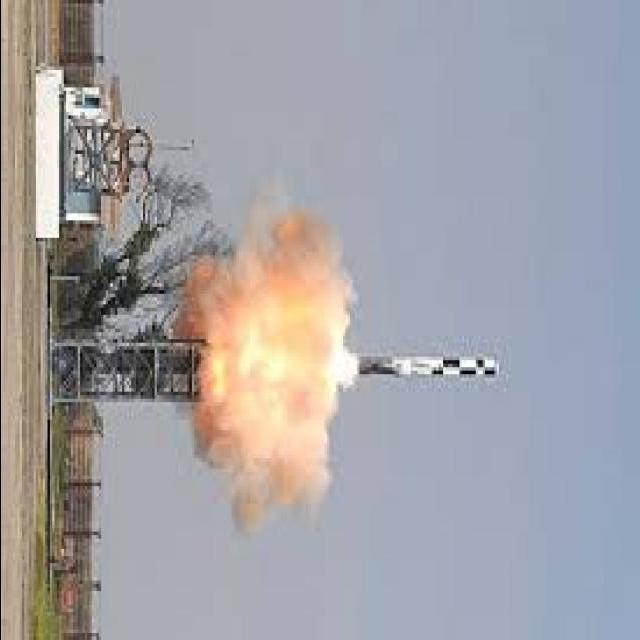missile: (343, 346, 506, 394)
